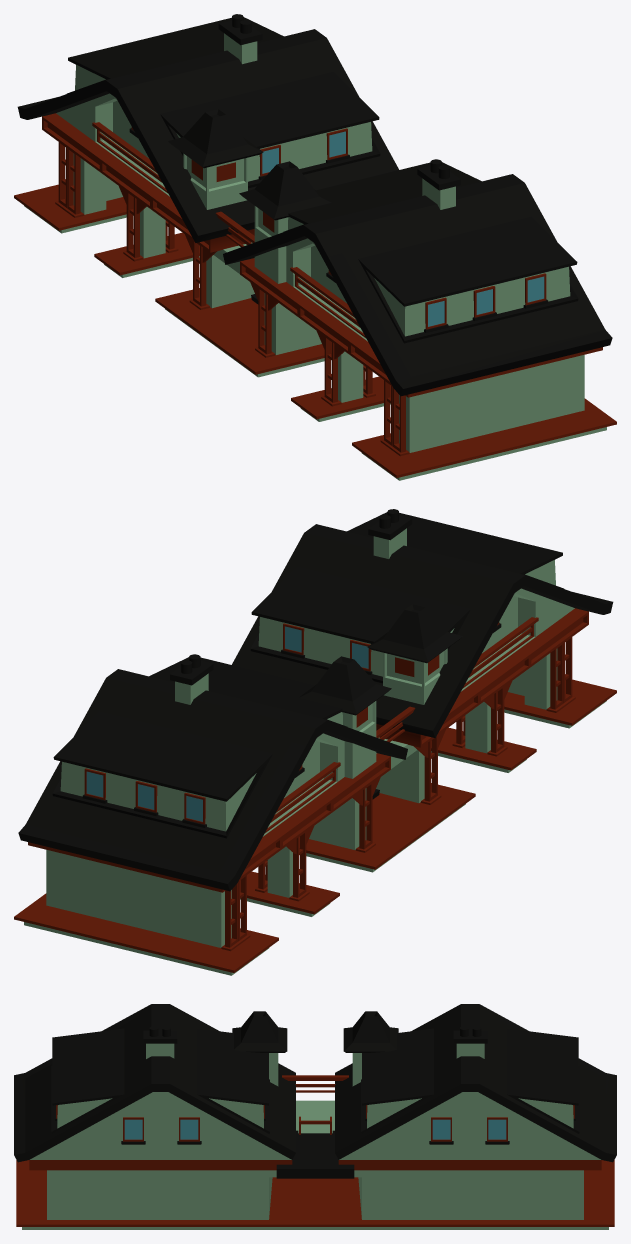
File: BoatHouse_Attached.FBX
3 renders of one model, top to bottom at view 1: azimuth 30°, elevation 25°; view 2: azimuth 150°, elevation 25°; view 3: azimuth 270°, elevation 25°, orthographic. The views are drawn at different scales.
Visible parts, largest first — view 1: Building; view 2: Building; view 3: Building.
Part boxes in pixels (x1,y1,x2,y2): Building: (14,14,616,480); Building: (14,509,616,975); Building: (14,1004,616,1229).
Size of the model in its own units: 110 by 102 by 325.
